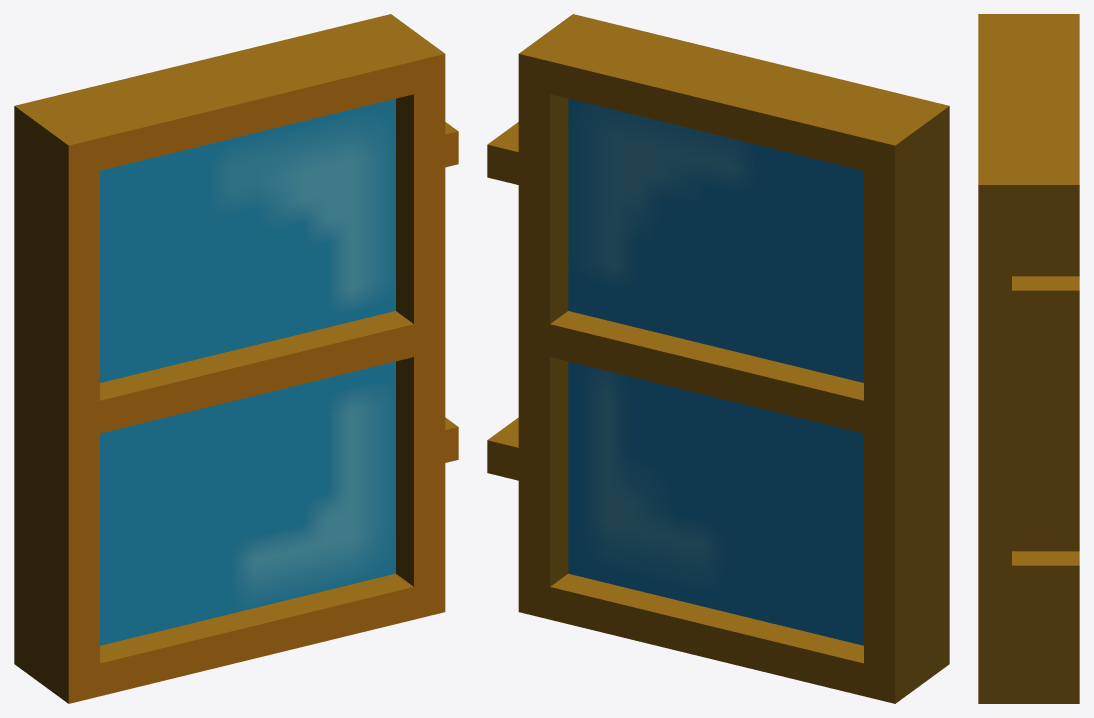
The model's file is DoorA.fbx.
3 views of the same model, side by side, from view 1: azimuth 30°, elevation 25°; view 2: azimuth 150°, elevation 25°; view 3: azimuth 270°, elevation 25° (orthographic). The views are drawn at different scales.
Parts seen in each view (by area): view 1: DoorA; view 2: DoorA; view 3: DoorA.
Part boxes in pixels (bbox=[...]): DoorA: bbox=[14, 14, 458, 703]; DoorA: bbox=[487, 14, 949, 703]; DoorA: bbox=[978, 14, 1079, 703].
Size of the model in its own units: 13 by 17 by 3.
